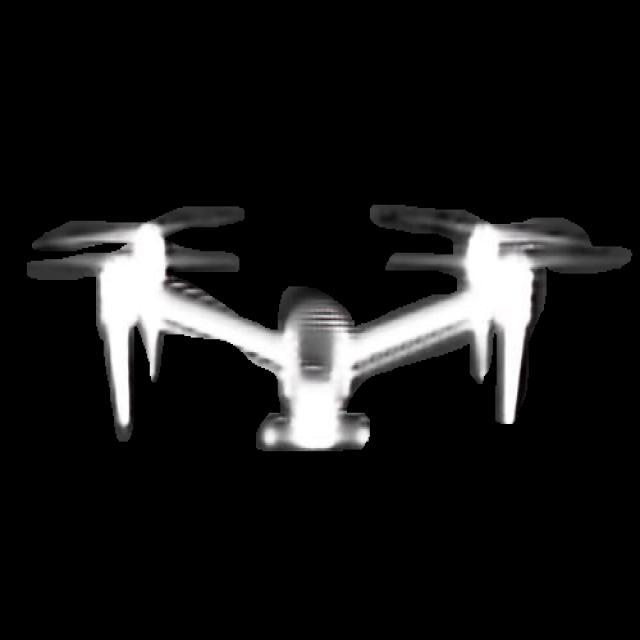drone: (23, 102, 633, 532)
